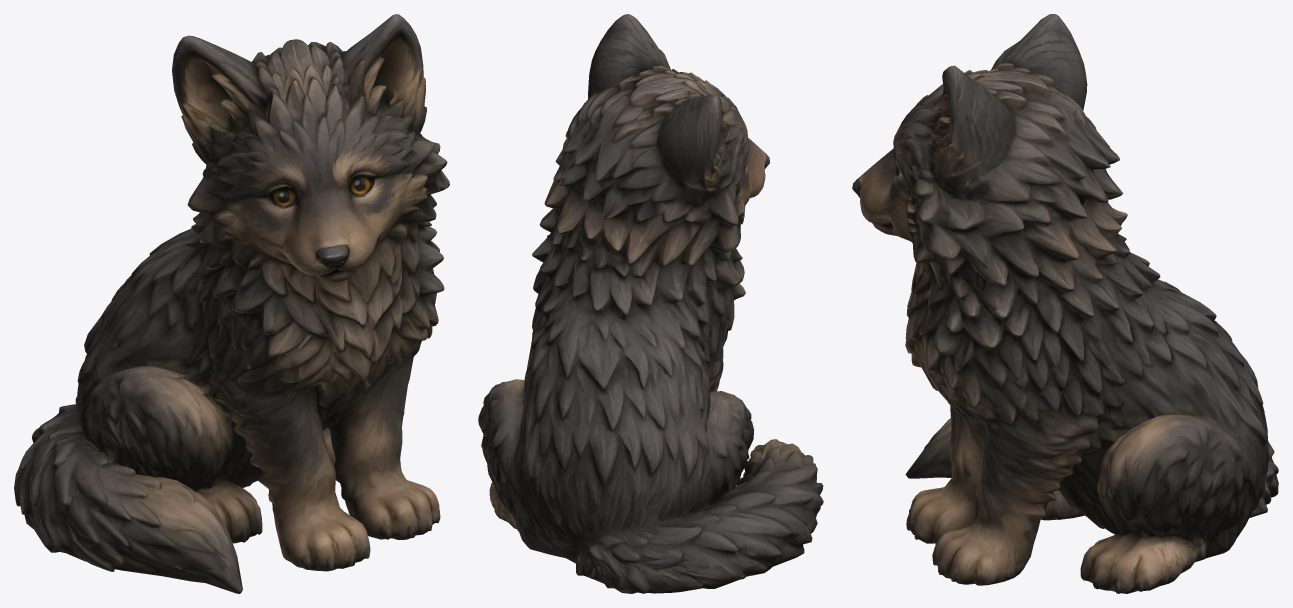
File: wolf-pup.glb
The picture shows the model from 3 angles, left to right: view 1: azimuth 30°, elevation 25°; view 2: azimuth 150°, elevation 25°; view 3: azimuth 270°, elevation 25°; orthographic projection. The views are drawn at different scales.
Parts seen in each view (by area): view 1: mesh_node; view 2: mesh_node; view 3: mesh_node.
Part boxes in pixels (x1,y1,x2,y2): mesh_node: (14,14,449,593); mesh_node: (478,14,823,593); mesh_node: (852,14,1278,593).
Bounding box in the file's own units: 1.34 × 1.9 × 1.47.
1 material, 1 textured.
